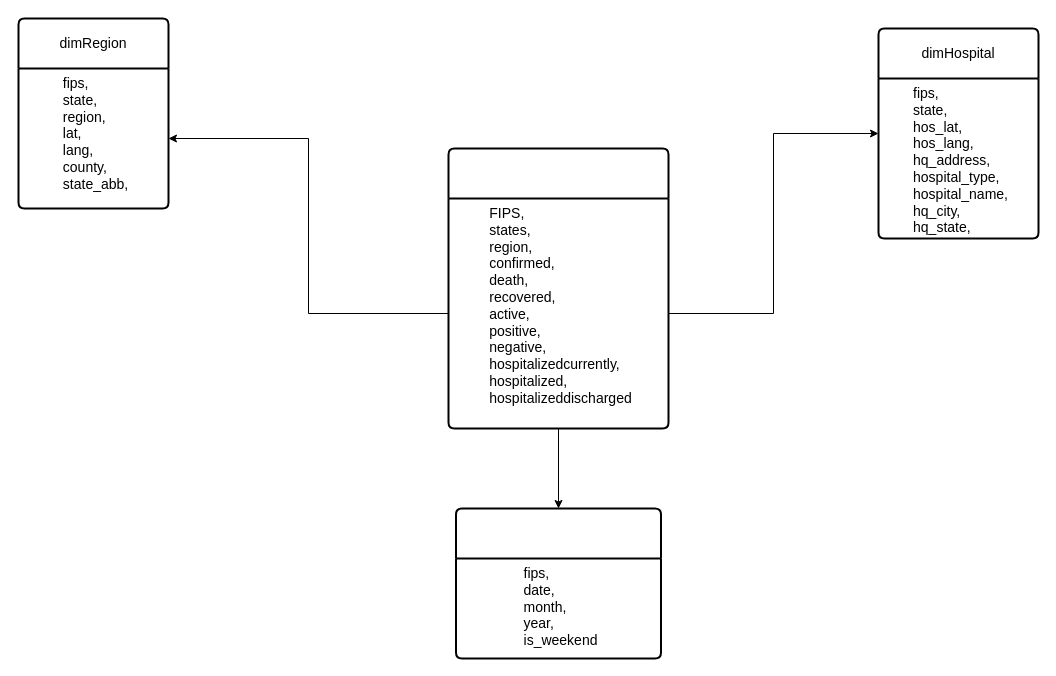
Image size: 1056x676. Some labels were removed from this diagram. The shapes that lost their labels are listed below. From the top down, each one's box as (x1, y1, x2, y2) in pixels, then its label:
(447, 147, 669, 429): factCovid
(454, 507, 662, 659): dimDate
